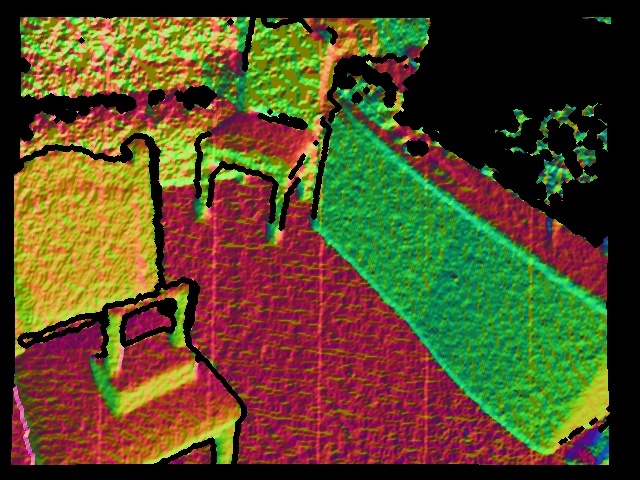station: (91, 279, 197, 415)
